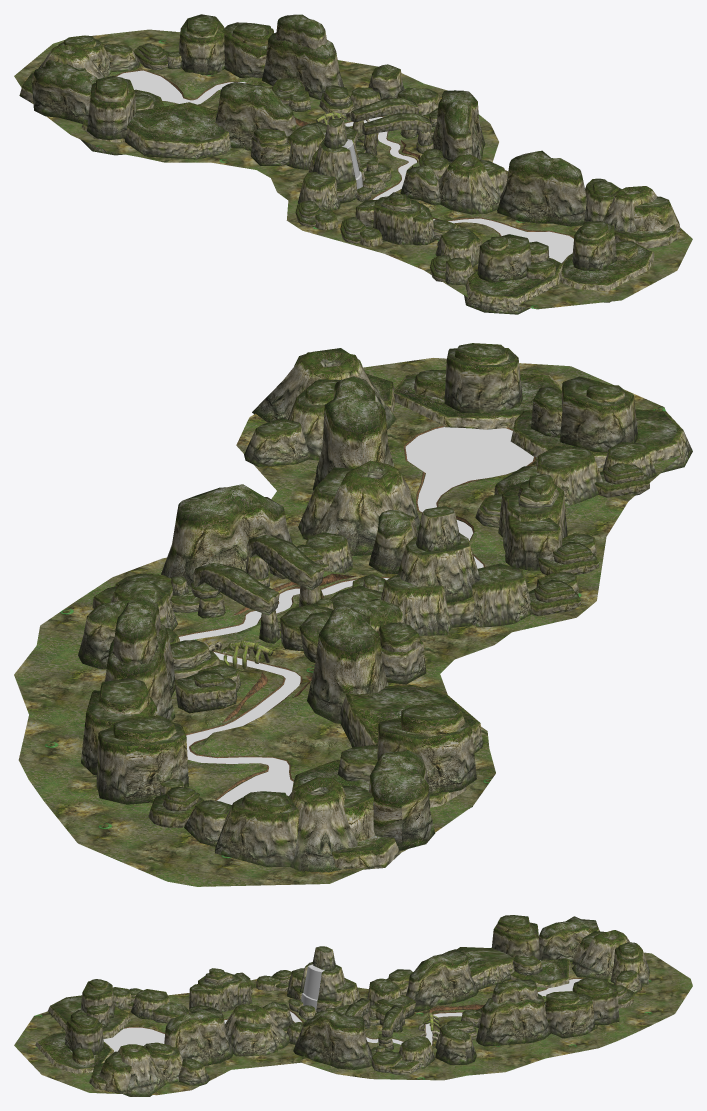
File: Aa-Stage01-ground.FBX
The picture shows the model from 3 angles, top to bottom: view 1: azimuth 30°, elevation 25°; view 2: azimuth 150°, elevation 25°; view 3: azimuth 270°, elevation 25°; orthographic projection. The views are drawn at different scales.
Visible parts, largest first — view 1: Aa-Stage01-Mountain, Aa-Stage01-ground, Aa-Stage01-Lake; view 2: Aa-Stage01-Mountain, Aa-Stage01-ground, Aa-Stage01-Lake, Aa-Stage01-Bone01, Aa-Stage01-ground01, Aa-Stage01-River03; view 3: Aa-Stage01-Mountain, Aa-Stage01-ground, Aa-Stage01-Lake, Aa-Stage01-Waterfall, Aa-Stage01-Bone01.
Part boxes in pixels (left/top/right/bottom): Aa-Stage01-Mountain: left=19, top=14, right=680, bottom=314; Aa-Stage01-ground: left=14, top=29, right=692, bottom=309; Aa-Stage01-Lake: left=117, top=70, right=573, bottom=263; Aa-Stage01-Mountain: left=78, top=343, right=692, bottom=872; Aa-Stage01-ground: left=14, top=358, right=680, bottom=886; Aa-Stage01-Lake: left=179, top=427, right=533, bottom=804; Aa-Stage01-Bone01: left=203, top=640, right=273, bottom=668; Aa-Stage01-ground01: left=222, top=573, right=356, bottom=722; Aa-Stage01-River03: left=185, top=688, right=293, bottom=800; Aa-Stage01-Mountain: left=35, top=915, right=649, bottom=1096; Aa-Stage01-ground: left=14, top=952, right=692, bottom=1095; Aa-Stage01-Lake: left=103, top=979, right=581, bottom=1051; Aa-Stage01-Waterfall: left=301, top=964, right=324, bottom=1010; Aa-Stage01-Bone01: left=418, top=1012, right=440, bottom=1040.
Bounding box in the file's own units: 205739 × 41578 × 389533.
